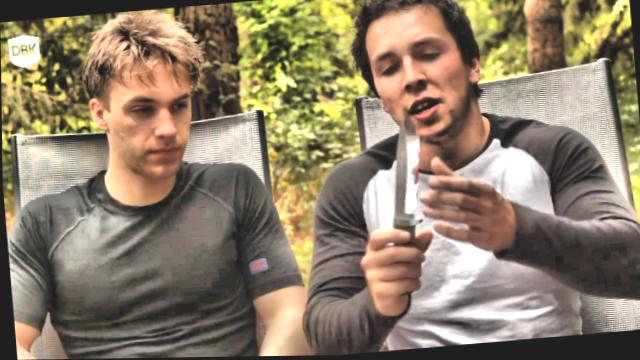knife: (345, 93, 441, 300)
